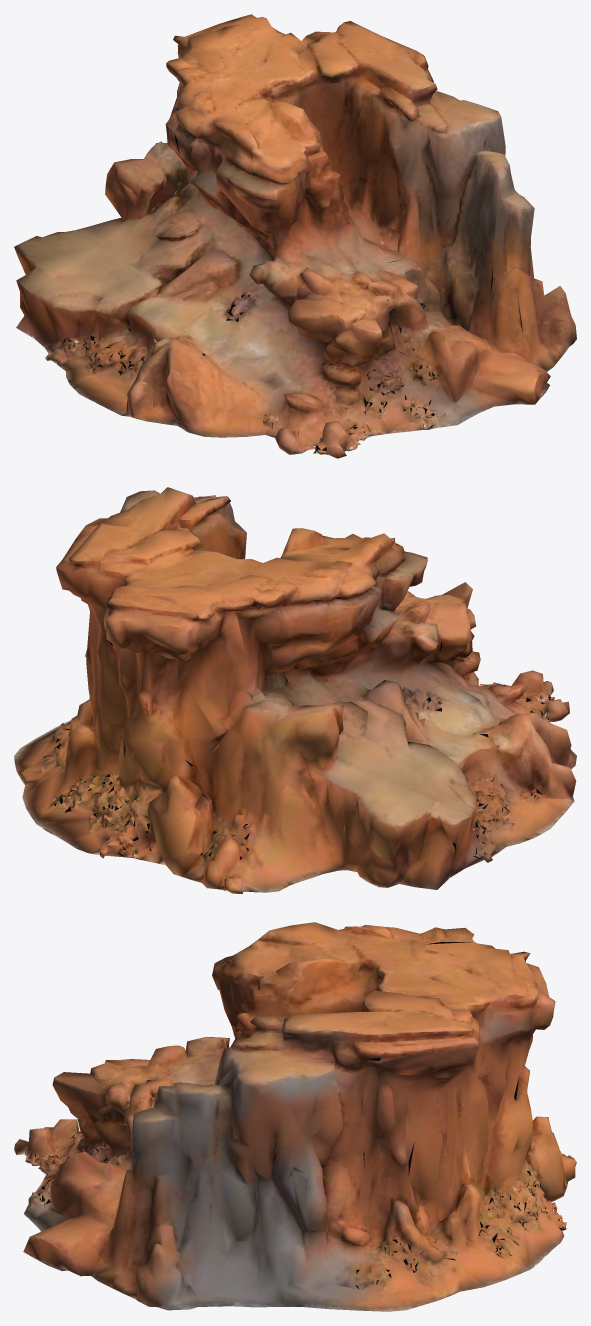
File: mesa_plateau_a.glb
3 views of the same model, one above another, from view 1: azimuth 30°, elevation 25°; view 2: azimuth 150°, elevation 25°; view 3: azimuth 270°, elevation 25° (orthographic). The views are drawn at different scales.
Visible parts, largest first — view 1: mesa_plateau_a_00; view 2: mesa_plateau_a_00; view 3: mesa_plateau_a_00.
Part boxes in pixels (x1,y1,x2,y2): mesa_plateau_a_00: (14,14,576,458); mesa_plateau_a_00: (14,487,576,893); mesa_plateau_a_00: (14,922,576,1311).
Bounding box in the file's own units: 1.82 × 0.9112 × 1.9.
1 material, 1 textured.
